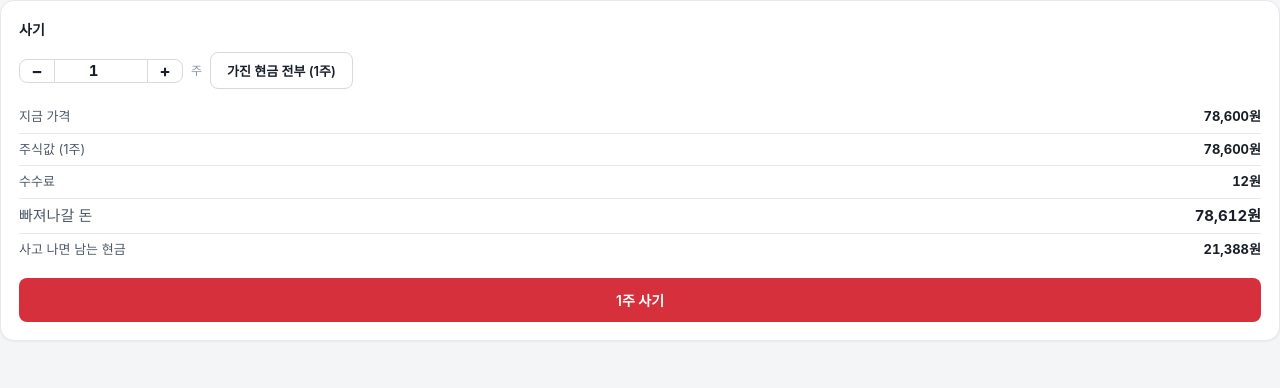
BuyPanel 잔고 초과(SPEC §9.2) › 잔고를 넘는 수량이면 버튼이 잠기고 이유를 알려준다
This screenshot has width=1280, height=388.
Replace the text in the number field named "살 수량" with "5" at point(101, 70), box [55, 58, 147, 82]
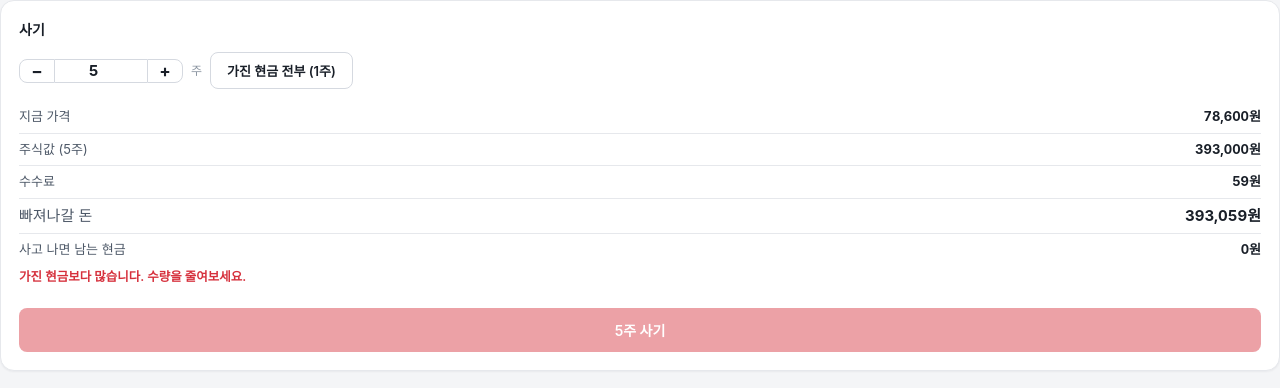
Check: the button "5주 사기" is disabled, box [19, 308, 1261, 352]
Check: the text "가진 현금보다 많습니다. 수량을 줄여보세요." is shown, box [19, 268, 246, 284]
